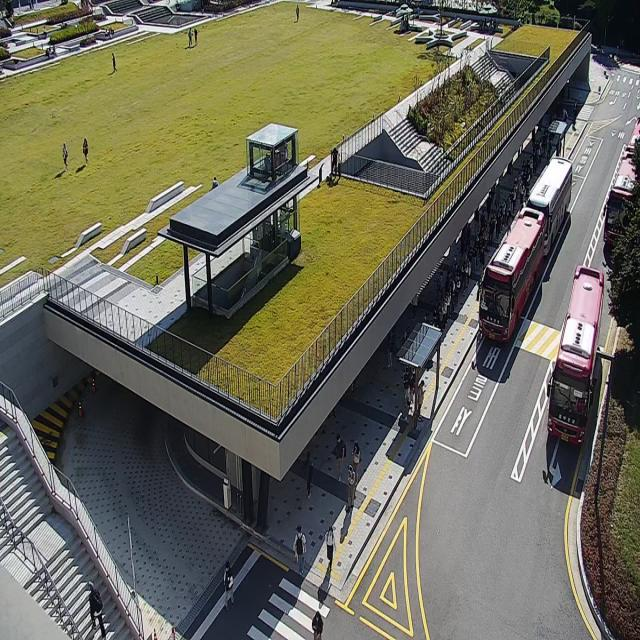queue: (418, 114, 556, 431)
